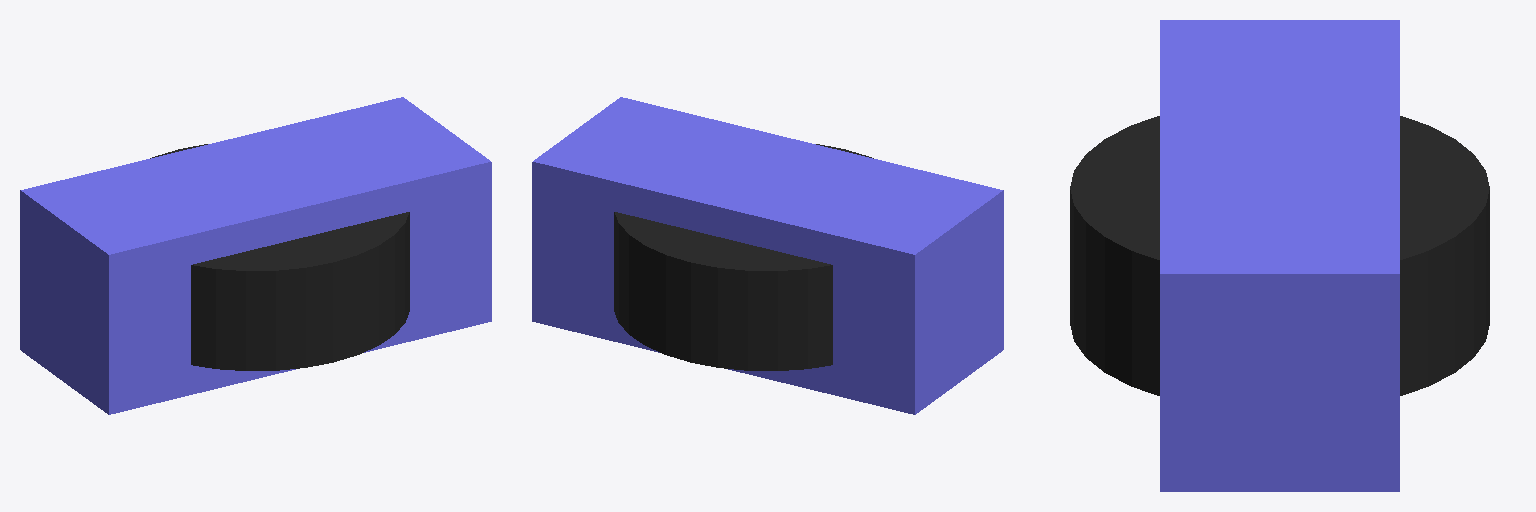
robot.urdf — mad_bot:
<robot name="mad_bot">
    <link name="chassis">
        <inertial>
            <mass value="18"/>
            <inertia ixx="0.24" ixy="0" ixz="0" iyy="1.5" iyz="0" izz="1.74"/>
        </inertial>
        <visual>
            <geometry>
                <box size="1 0.4 0.4"/>
            </geometry>
            <material name="blue">
                <color rgba="0.5 0.5 1.0 1"/>
            </material>
        </visual>
        <collision>
            <geometry>
                <box size="1 0.4 0.4"/>
            </geometry>
        </collision>
    </link>

    <link name="left_wheel">
        <inertial>
            <mass value="2.5"/>
            <inertia ixx="0.12" ixy="0" ixz="0" iyy="0.12" iyz="0" izz="0.1"/>
        </inertial>
        <visual>
            <geometry>
                <cylinder radius="0.35" length="0.25"/>
            </geometry>
            <material name="red">
                <color rgba="0.2 0.2 0.2 1"/>
            </material>
        </visual>
        <collision>
            <geometry>
                <cylinder radius="0.35" length="0.25"/>
            </geometry>
        </collision>
    </link>

    <link name="right_wheel">
        <inertial>
            <mass value="2.5"/>
            <inertia ixx="0.12" ixy="0" ixz="0" iyy="0.12" iyz="0" izz="0.1"/>
        </inertial>
        <visual>
            <geometry>
                <cylinder radius="0.35" length="0.25"/>
            </geometry>
            <material name="red">
                <color rgba="0.2 0.2 0.2 1"/>
            </material>
        </visual>
        <collision>
            <geometry>
                <cylinder radius="0.35" length="0.25"/>
            </geometry>
        </collision>
    </link>

    <joint name="left_wheel_joint" type="revolute">
        <parent link="chassis"/>
        <child link="left_wheel"/>
        <axis xyz="0 0 1"/>
        <limit lower="-1000" upper="1000" effort="10" velocity="0"/>
    </joint>

    <joint name="right_wheel_joint" type="revolute">
        <parent link="chassis"/>
        <child link="right_wheel"/>
        <axis xyz="0 0 1"/>
        <limit lower="-1000" upper="1000" effort="10" velocity="0"/>
    </joint>

    <plugin name="gz::sim::systems::DiffDrive" filename="ignition-gazebo-diff-drive-system">
        <left_joint>left_wheel_joint</left_joint>
        <right_joint>right_wheel_joint</right_joint>
        <wheel_separation>1.5</wheel_separation>
        <wheel_radius>0.35</wheel_radius>
        <odom_publish_frequency>5</odom_publish_frequency>
        <max_linear_acceleration>2.0</max_linear_acceleration>
        <min_linear_acceleration>-2.0</min_linear_acceleration>
        <max_angular_acceleration>3.0</max_angular_acceleration>
        <min_angular_acceleration>-3.0</min_angular_acceleration>
        <max_linear_velocity>1.0</max_linear_velocity>
        <min_linear_velocity>-1.0</min_linear_velocity>
        <max_angular_velocity>2.0</max_angular_velocity>
        <min_angular_velocity>-2.0</min_angular_velocity>
    </plugin>
</robot>

--- What the picture shows (computed from the rendered views, not written in the file) ---
The picture shows the robot from 3 angles, left to right: view 1: azimuth 30°, elevation 25°; view 2: azimuth 150°, elevation 25°; view 3: azimuth 270°, elevation 25°; orthographic projection.
Model mad_bot with 3 links and 2 joints (2 revolute), rooted at chassis, posed every joint at zero.
Visible links, largest first — view 1: chassis, left_wheel; view 2: chassis, left_wheel; view 3: chassis, left_wheel.
Boxes of the visible links, x1,y1,x2,y2 form: chassis: [20, 97, 491, 414]; left_wheel: [150, 144, 409, 370]; chassis: [532, 97, 1003, 414]; left_wheel: [614, 144, 873, 370]; chassis: [1160, 20, 1399, 491]; left_wheel: [1070, 116, 1489, 395].
Bounding box of the posed robot: 1 × 0.7 × 0.4 m (x, y, z).
Geometry: primitives only (box / cylinder / sphere), no mesh files.